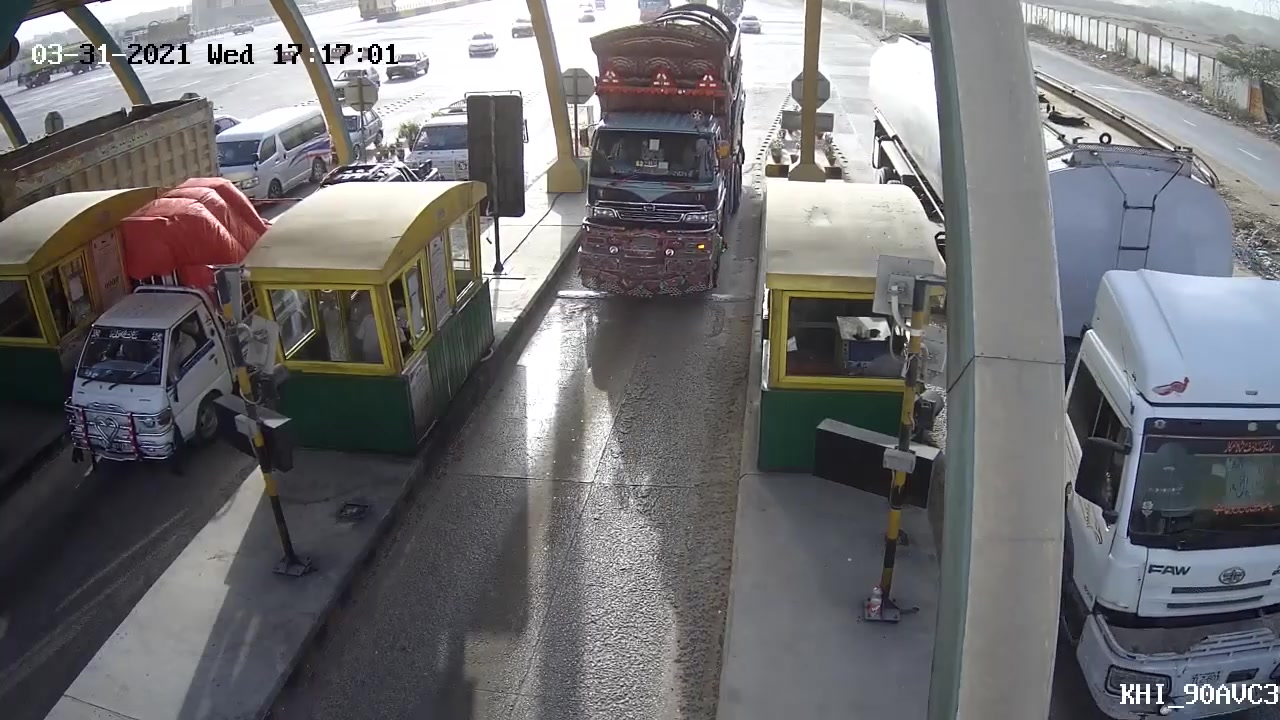F6: (568, 22, 743, 322)
